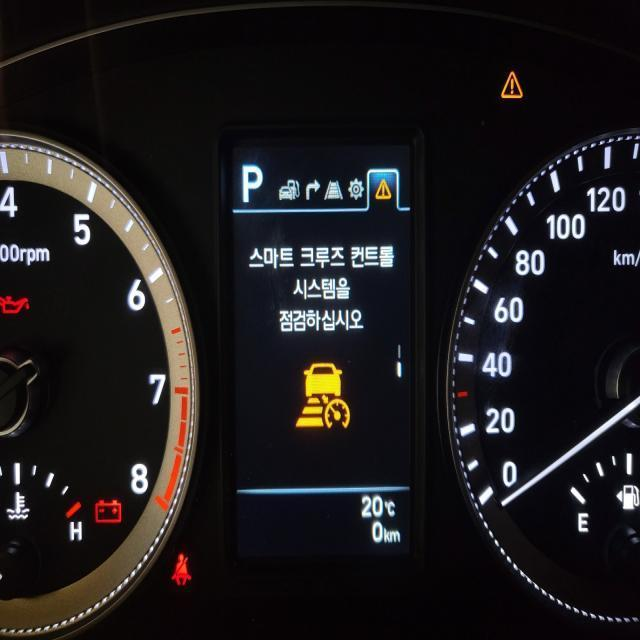Central Warning lamp: (501, 68, 522, 98)
